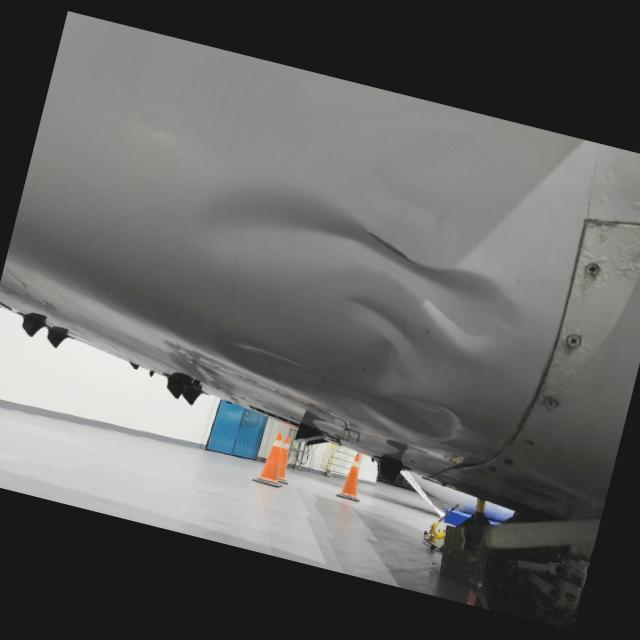Missing Fastener: (632, 223, 640, 253)
dent: (188, 148, 562, 398), (202, 322, 472, 448)
